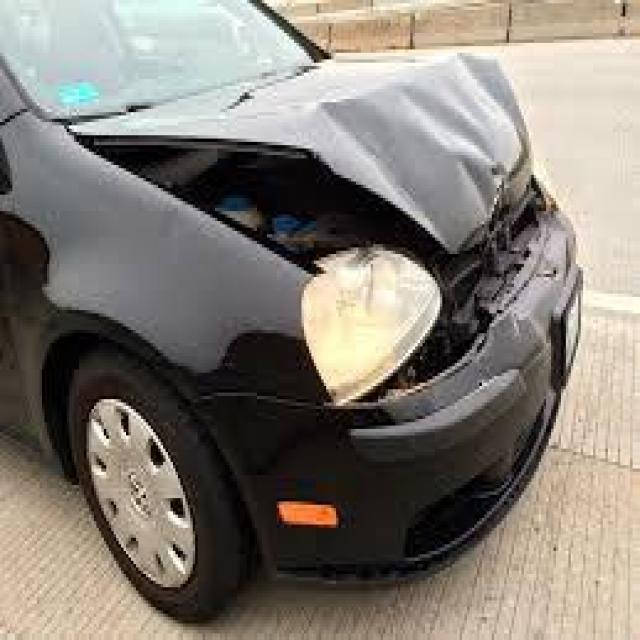damaged: (343, 52, 561, 410), (76, 52, 344, 284)
